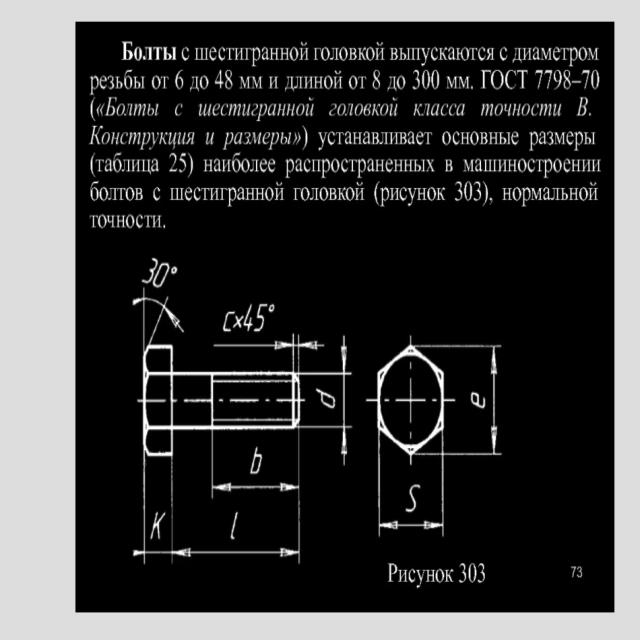marking_line: (338, 345, 349, 465), (170, 550, 299, 560), (489, 347, 499, 455), (213, 484, 298, 496), (380, 521, 444, 534), (214, 342, 293, 351), (302, 339, 327, 354), (133, 550, 174, 554)
special_symbol: (132, 297, 187, 341)
